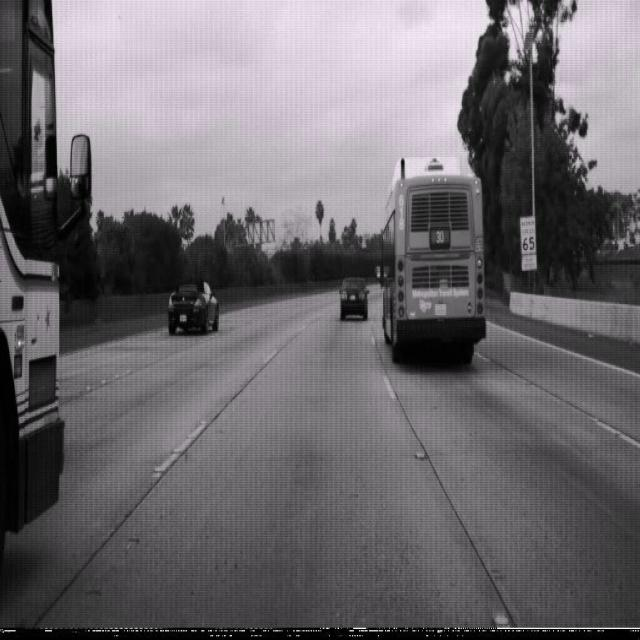speedLimit65: (520, 215, 536, 255)
